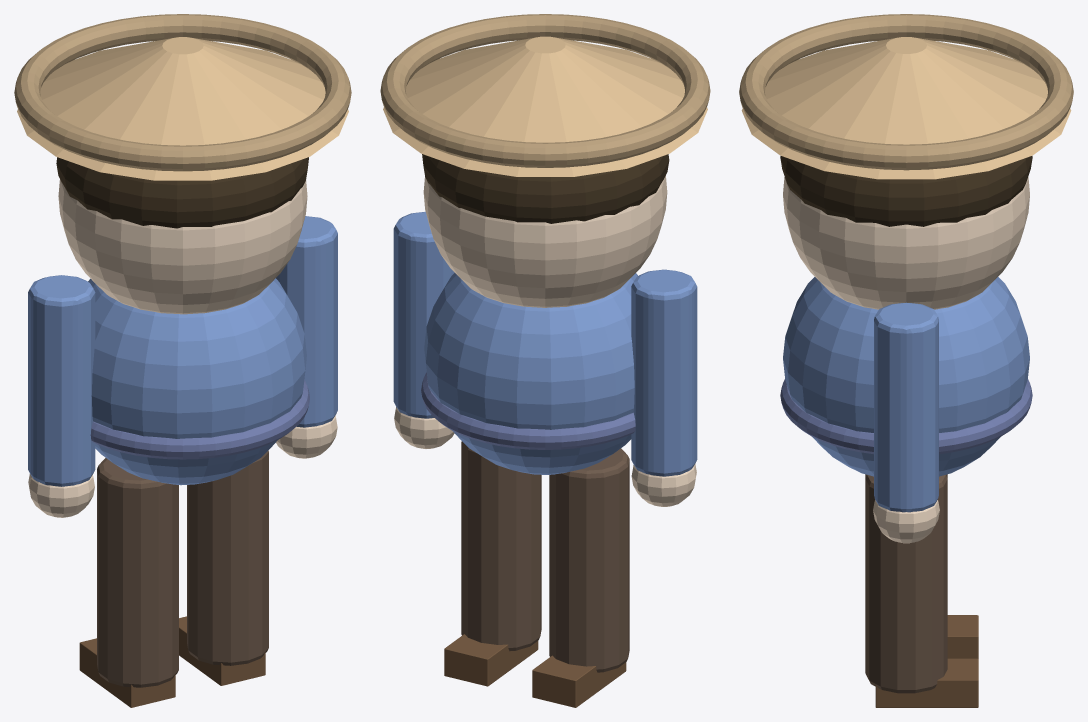
File: chibi_blue.glb
3 renders of one model, left to right at view 1: azimuth 30°, elevation 25°; view 2: azimuth 150°, elevation 25°; view 3: azimuth 270°, elevation 25°, orthographic. The views are drawn at different scales.
Parts seen in each view (by area): view 1: chibi_blue; view 2: chibi_blue; view 3: chibi_blue.
Boxes of the visible parts, left/top/right/bottom form: chibi_blue: left=14, top=14, right=351, bottom=707; chibi_blue: left=380, top=14, right=710, bottom=707; chibi_blue: left=739, top=14, right=1073, bottom=707.
Bounding box in the file's own units: 0.6667 × 1.35 × 0.65.
